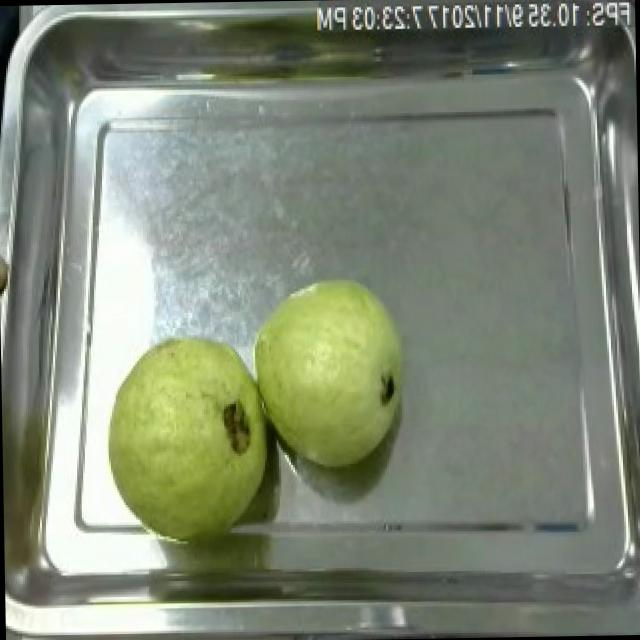Fruit: (92, 326, 280, 550), (244, 269, 408, 473)
